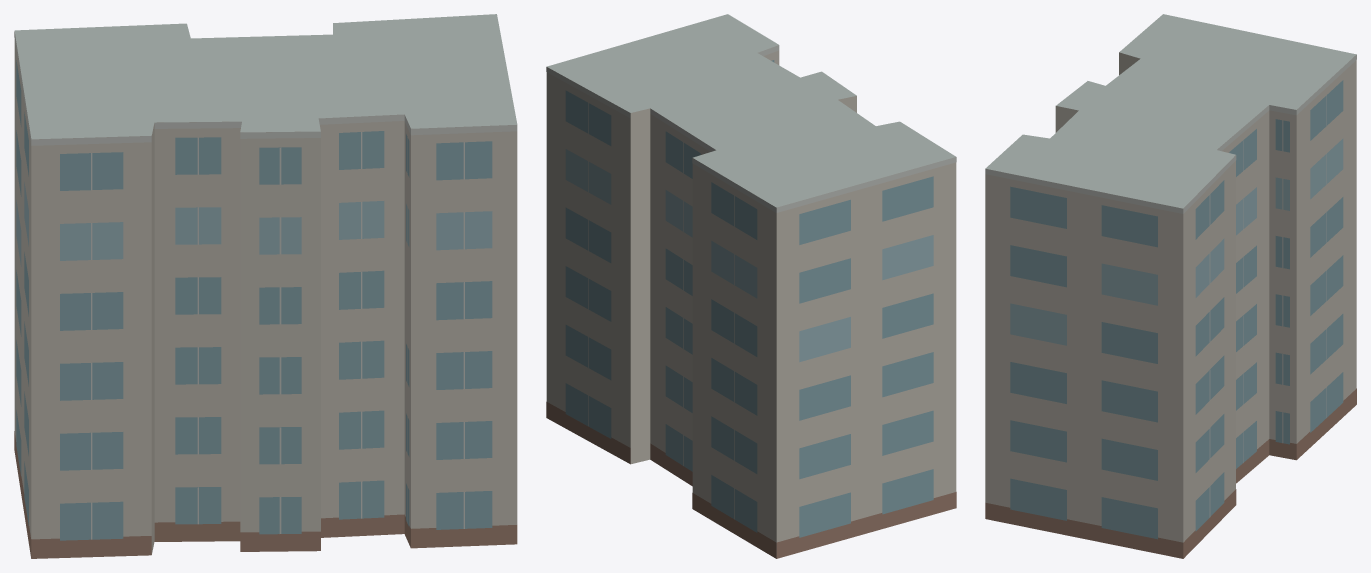
The model's file is survey-upis-32886659.glb.
3 renders of one model, left to right at view 1: azimuth 30°, elevation 25°; view 2: azimuth 150°, elevation 25°; view 3: azimuth 270°, elevation 25°, orthographic. The views are drawn at different scales.
Parts seen in each view (by area): view 1: survey-upis-32886659.tmp; view 2: survey-upis-32886659.tmp; view 3: survey-upis-32886659.tmp.
Boxes of the visible parts, x1,y1,x2,y2 form: survey-upis-32886659.tmp: [14, 14, 517, 558]; survey-upis-32886659.tmp: [546, 14, 956, 558]; survey-upis-32886659.tmp: [985, 14, 1356, 558].
Bounding box in the file's own units: 18.84 × 15.8 × 15.2.
